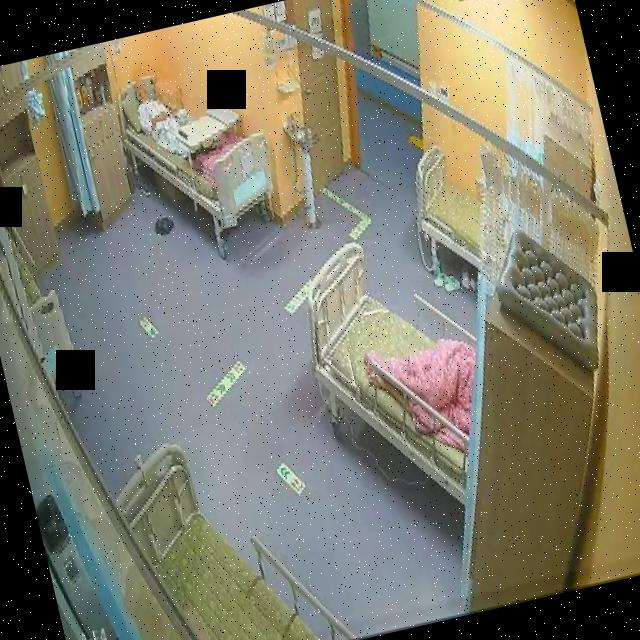bed: (290, 223, 500, 524), (104, 409, 356, 640), (111, 56, 282, 246), (402, 140, 494, 280)
lie: (126, 70, 198, 164)
patient: (127, 70, 196, 163)
